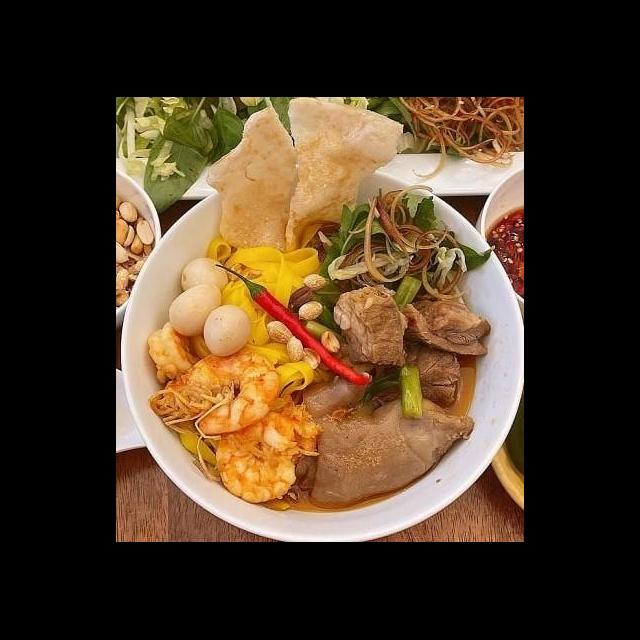banh da: (280, 99, 407, 258), (203, 104, 307, 255)
mi: (206, 236, 325, 410)
thit heo: (329, 282, 411, 370), (398, 298, 494, 362), (398, 336, 464, 410)
tom: (146, 346, 283, 444), (217, 408, 324, 502), (144, 316, 206, 386)
trung: (166, 280, 224, 338), (200, 302, 253, 360), (179, 254, 232, 298)
